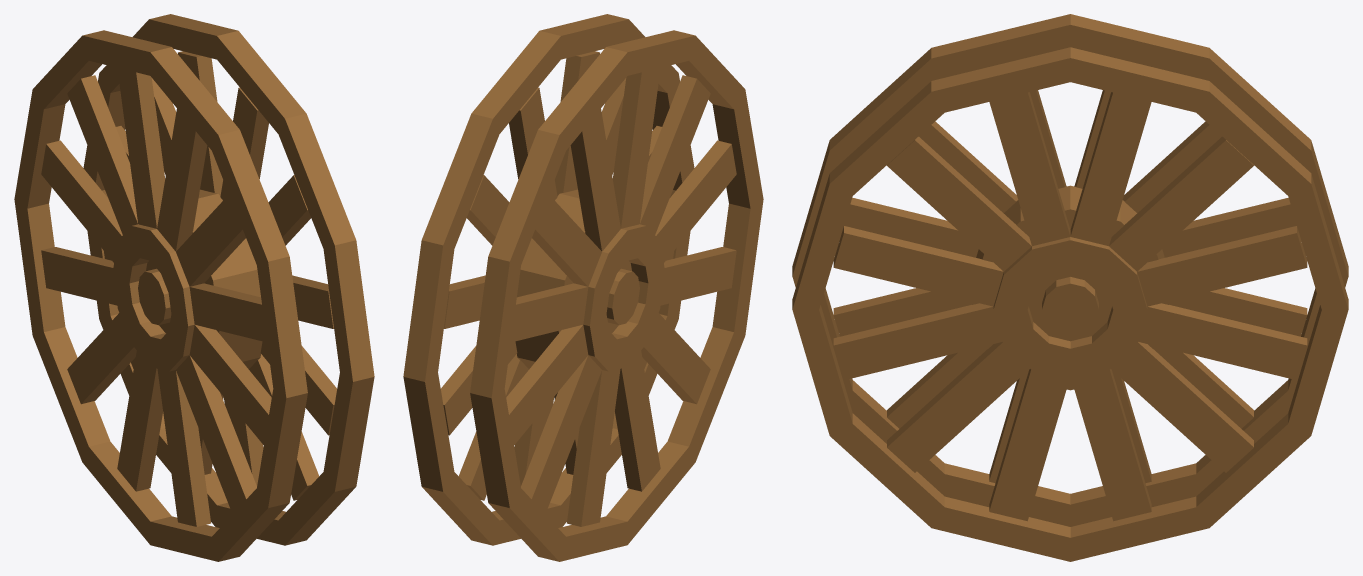
The model's file is water wheel.fbx.
3 views of the same model, side by side, from view 1: azimuth 30°, elevation 25°; view 2: azimuth 150°, elevation 25°; view 3: azimuth 270°, elevation 25° (orthographic). The views are drawn at different scales.
Parts seen in each view (by area): view 1: Circle.001, Circle; view 2: Circle.001, Circle; view 3: Circle.001, Circle.
Part boxes in pixels (<box>): Circle.001: <box>14,14,374,561</box>; Circle: <box>192,189,262,369</box>; Circle.001: <box>403,14,763,561</box>; Circle: <box>515,189,585,369</box>; Circle.001: <box>792,14,1348,561</box>; Circle: <box>971,185,1169,390</box>.
Bounding box in the file's own units: 94.74 × 506 × 506.
